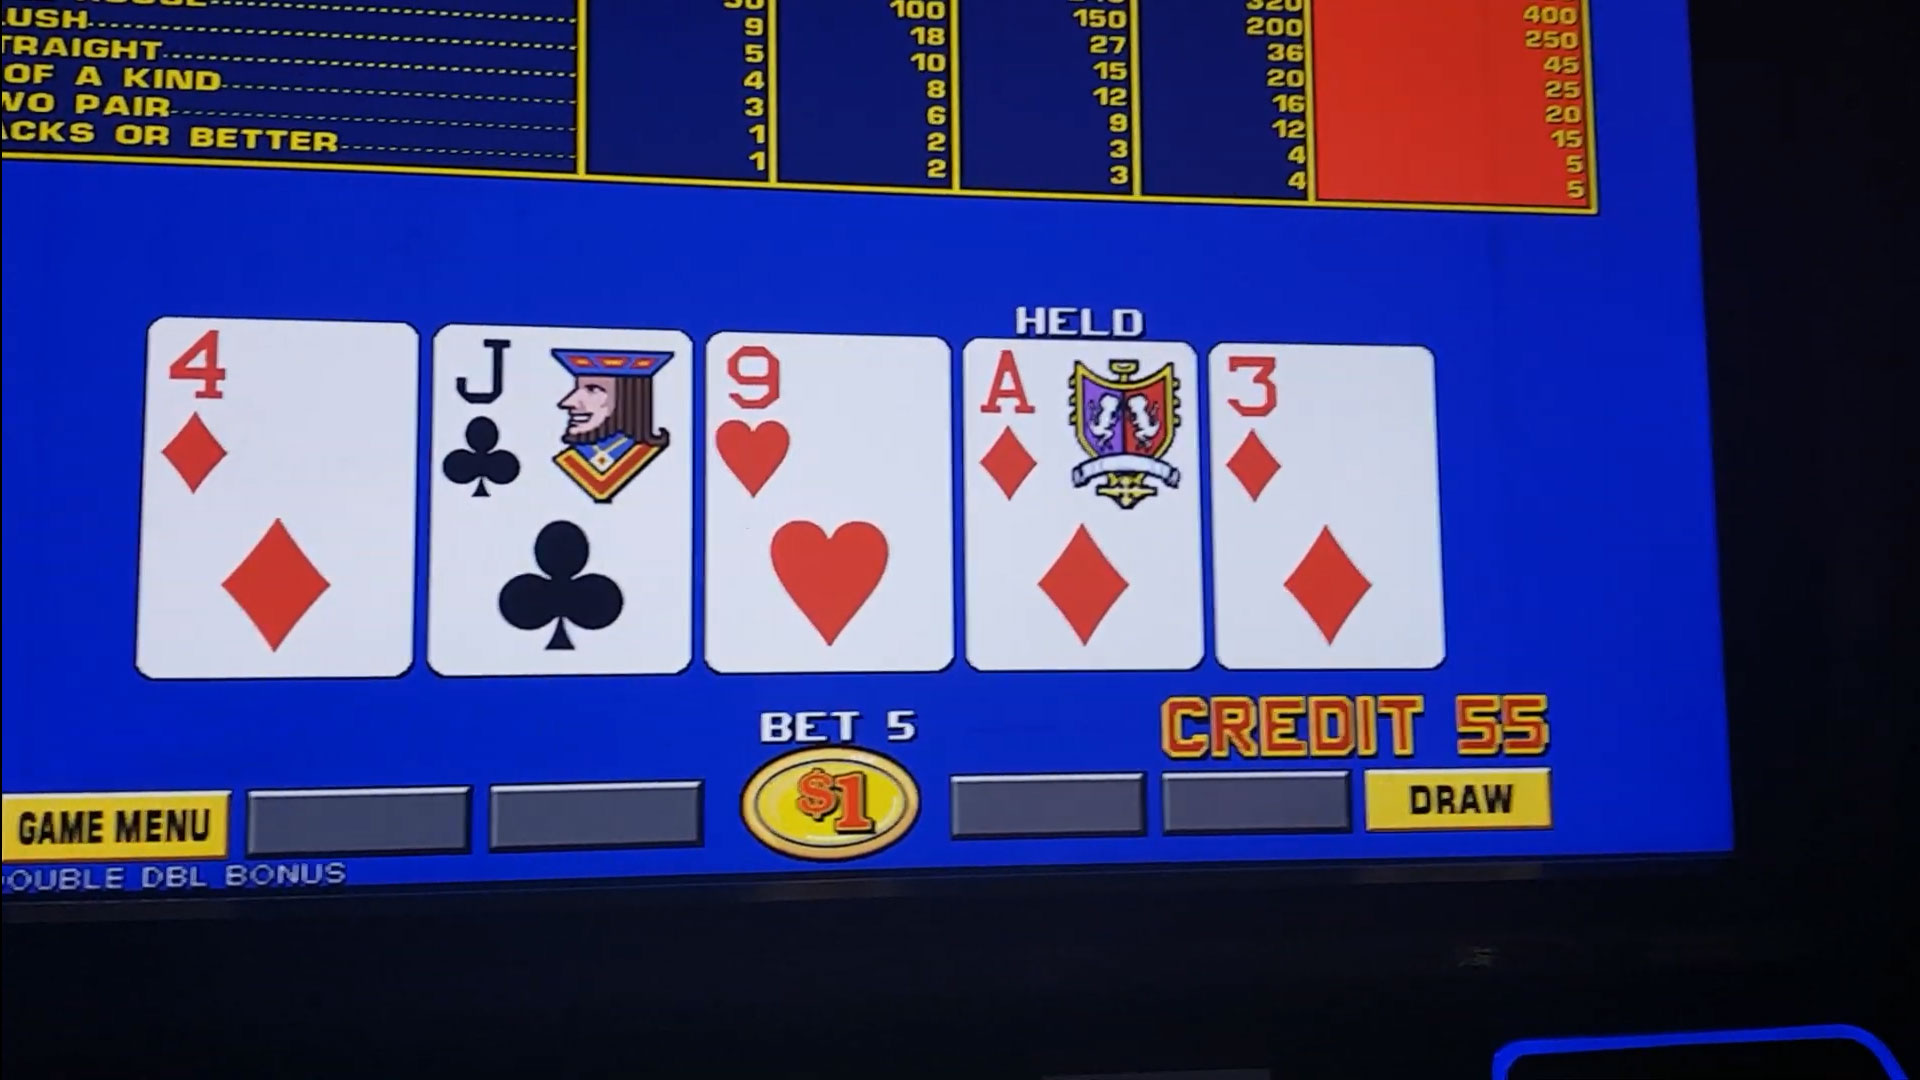CJ: (440, 330, 680, 509)
D3: (1215, 351, 1433, 513)
D4: (153, 326, 415, 506)
DA: (968, 345, 1201, 510)
H9: (712, 342, 945, 505)
